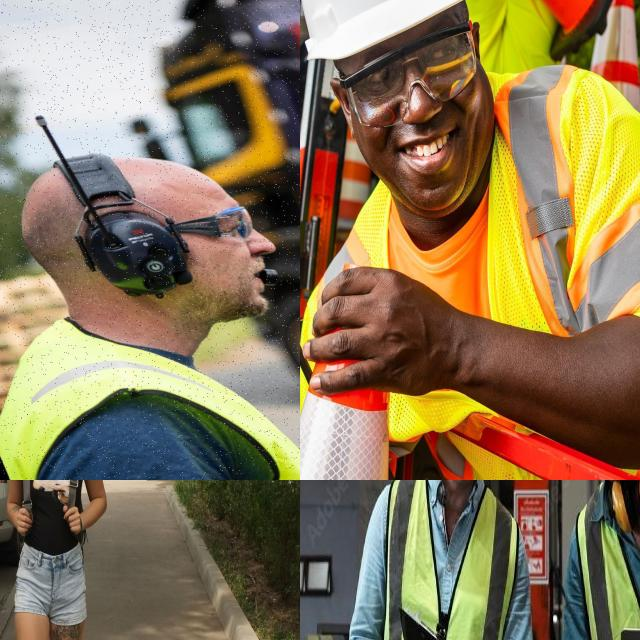Ear-protection: (588, 480, 640, 513)
No_Ear-Protection: (83, 212, 191, 298)
face_nomask: (336, 20, 479, 199), (176, 233, 277, 321)
glasses: (334, 17, 480, 123), (174, 206, 253, 239)
hand_noglove: (304, 261, 464, 418)
head_helmet: (300, 0, 487, 52)
person: (300, 0, 640, 480), (339, 480, 546, 640), (539, 480, 640, 640)
vest: (300, 88, 640, 450), (373, 480, 524, 640), (572, 480, 640, 640)
